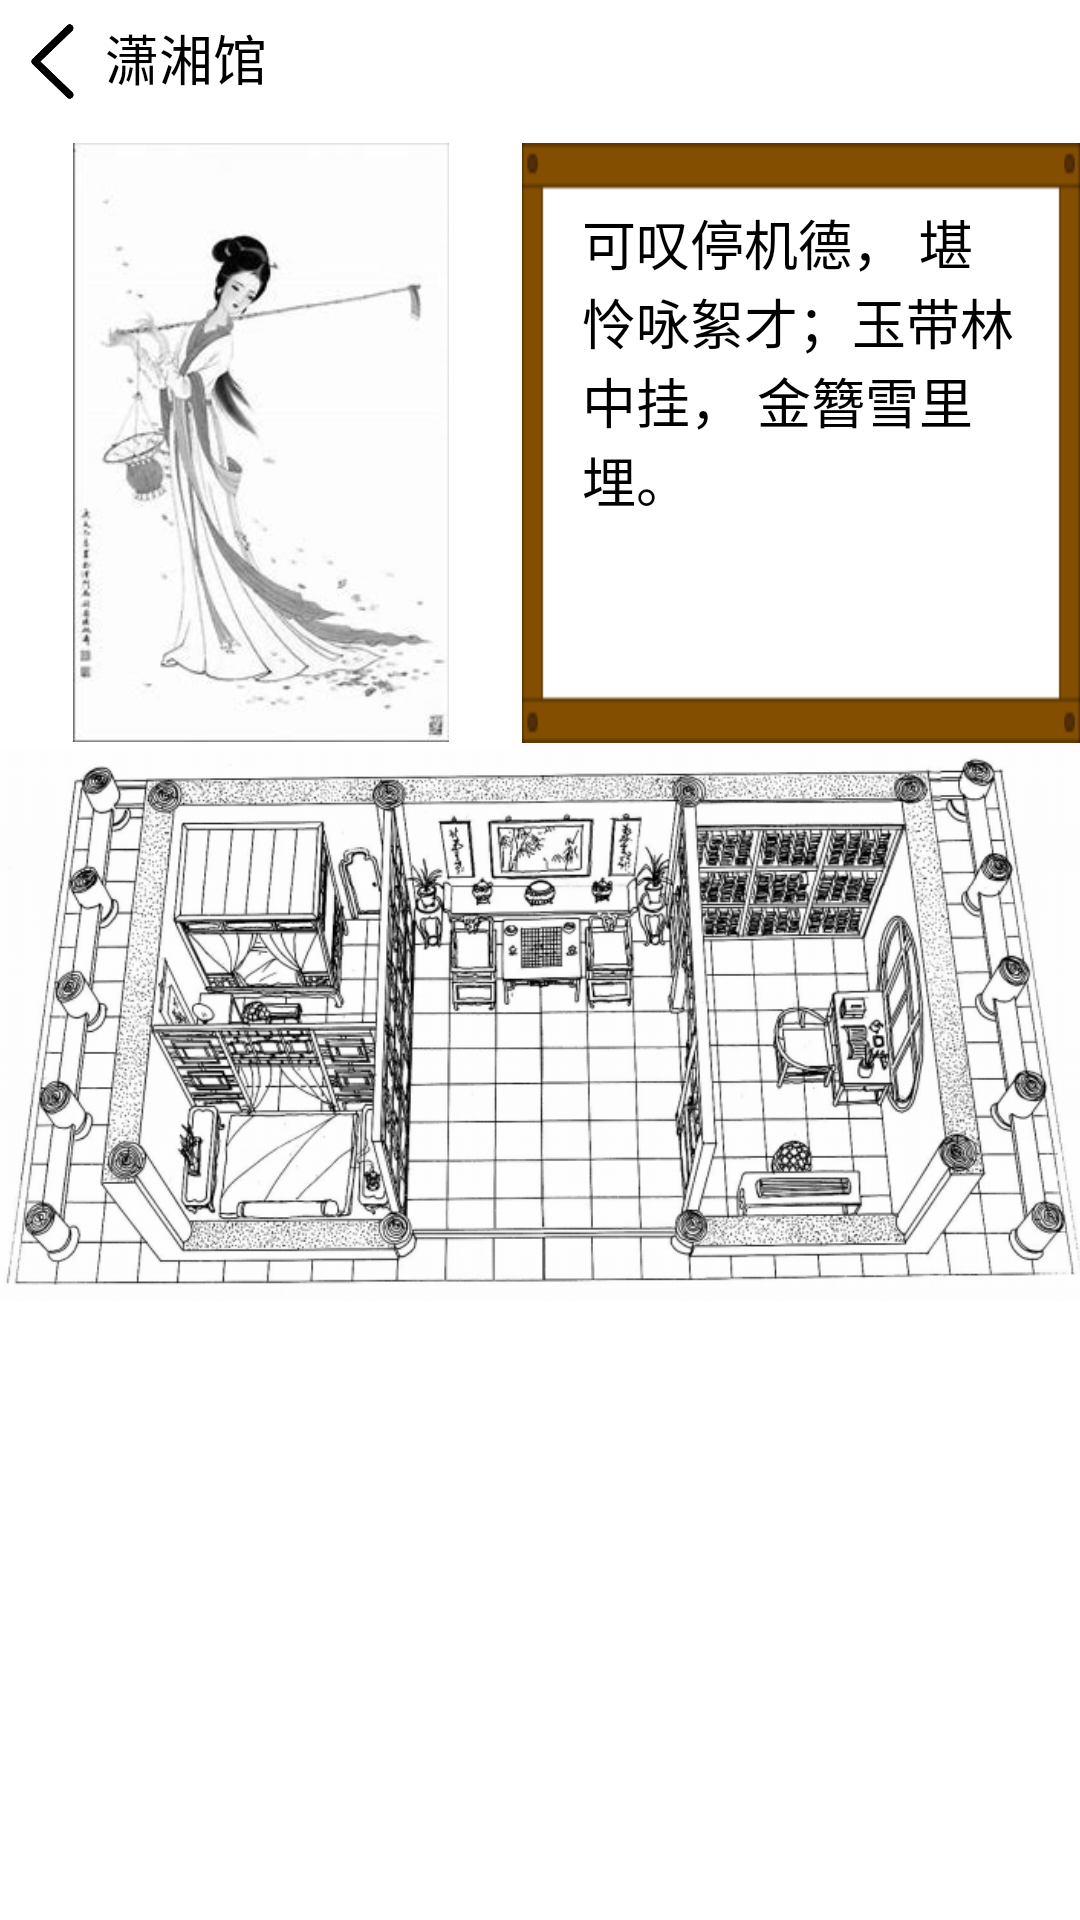

Icon click points for this 1080 × 1920 phone screenshot, format point (x, y):
returnbutton: point (52, 61)
